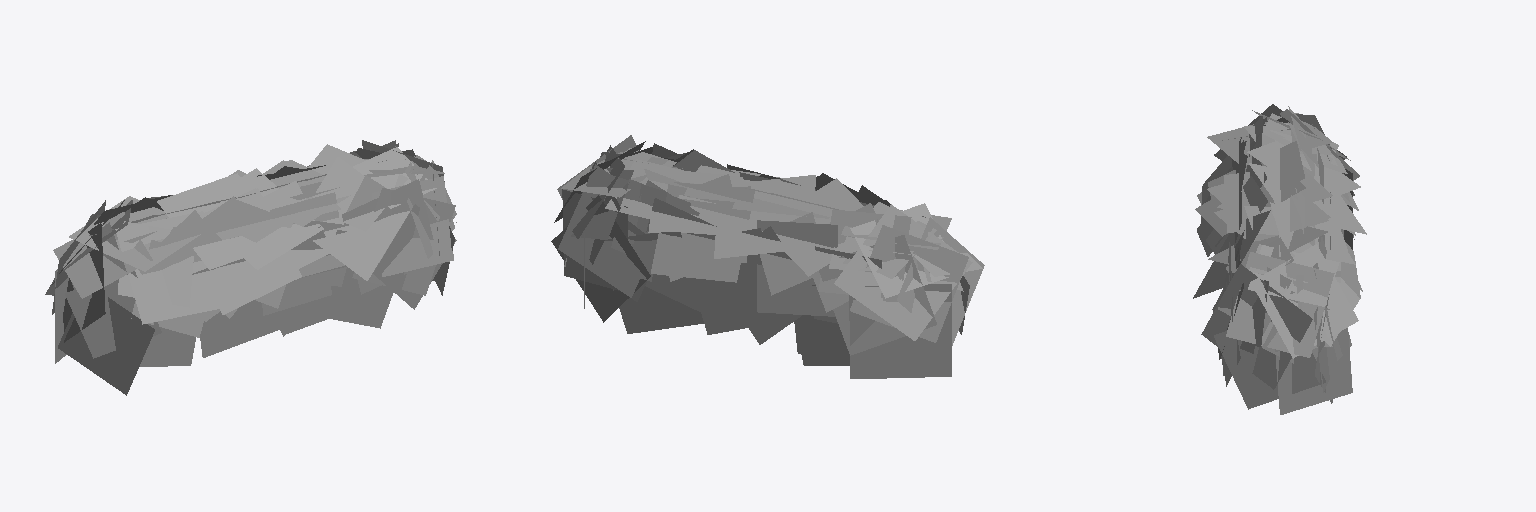
File: Bush_Small.obj
The picture shows the model from 3 angles: view 1: azimuth 30°, elevation 25°; view 2: azimuth 150°, elevation 25°; view 3: azimuth 270°, elevation 25°; orthographic projection.
Visible parts, largest first — view 1: Bush_Small_Plane.026; view 2: Bush_Small_Plane.026; view 3: Bush_Small_Plane.026.
Part boxes in pixels (bbox=[...]): Bush_Small_Plane.026: bbox=[45, 140, 456, 395]; Bush_Small_Plane.026: bbox=[551, 135, 984, 378]; Bush_Small_Plane.026: bbox=[1193, 104, 1366, 414].
Size of the model in its own units: 1.9 by 0.7784 by 0.7238.